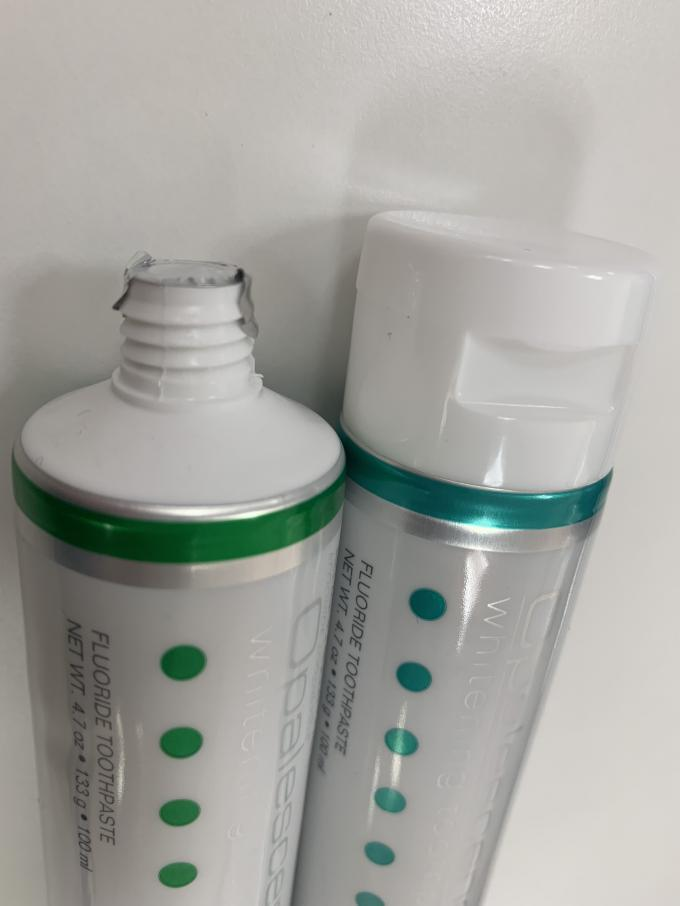toothpaste: (267, 185, 656, 906), (11, 236, 361, 906)
